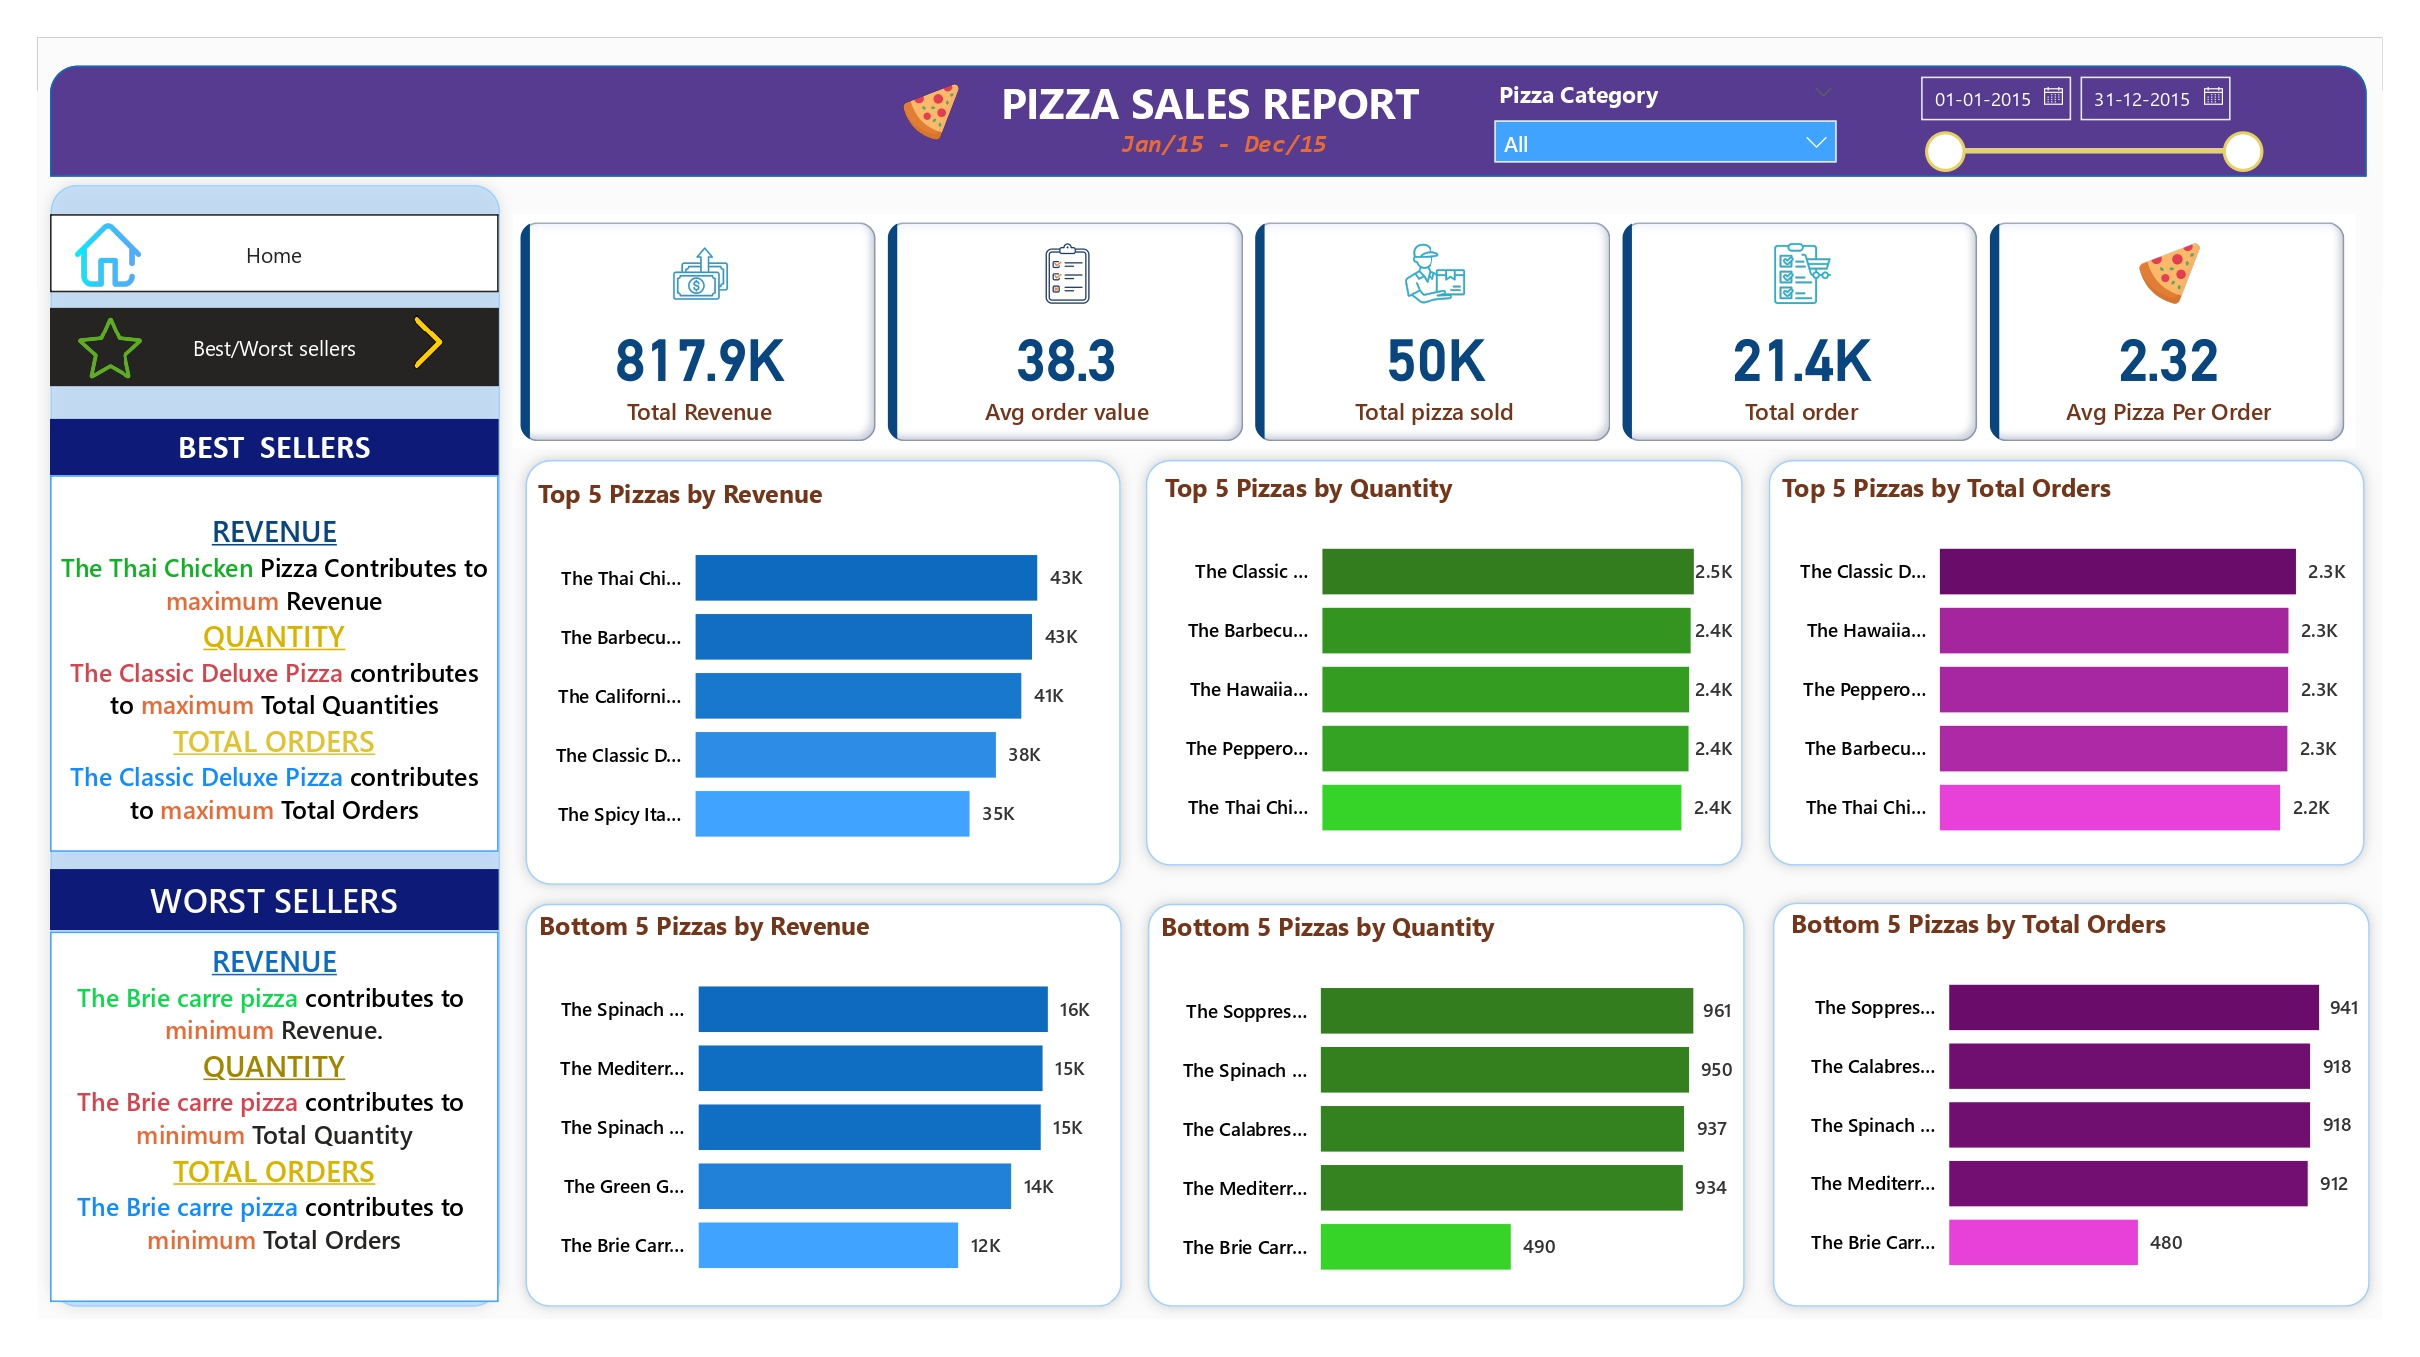

The page's visual inventory and layout, read from the dashboard file:
{"tool":"powerbi","page":{"name":"Best/Worst sellers","canvas":[1500,820],"ordinal":1},"visuals":[{"type":"cardVisual","fields":{"Data":["pizza_sales pizza_sale.Total Revenue","pizza_sales pizza_sale.Avg order value","pizza_sales pizza_sale.Total pizza sold","pizza_sales pizza_sale.Total order","pizza_sales pizza_sale.Avg Pizza Per Order"]},"box":[304.3,112.9,1178.6,150],"z":0},{"type":"shape","box":[8.4,18.1,1481.8,71],"z":1000},{"type":"textbox","box":[605.8,18.1,288.3,52.9],"z":2000},{"type":"textbox","box":[661.5,52.9,195,34.8],"z":3000},{"type":"image","box":[536.2,23.7,69.6,47.4],"z":4000},{"type":"shape","box":[303.9,262.1,397.2,287.8],"z":5000},{"type":"shape","box":[0,86.3,303.6,733.9],"z":6000},{"type":"textbox","box":[8.4,243.7,286.9,37.6],"z":7000},{"type":"textbox","box":[8.4,279.9,286.9,240.9],"z":8000},{"type":"textbox","box":[8.4,532,286.9,39],"z":9000},{"type":"textbox","box":[8.4,572.4,286.9,236.8],"z":10000},{"type":"slicer","fields":{"Values":["pizza_sales pizza_sale.pizza_category"]},"box":[921.9,20.9,239.5,65.5],"z":11000},{"type":"slicer","fields":{"Values":["pizza_sales pizza_sale.order_date"]},"box":[1192.1,15.3,239.5,73.8],"z":12000},{"type":"shape","box":[701.1,261.8,398.3,275.7],"z":13000},{"type":"shape","box":[1098.8,261.8,398.3,275.7],"z":14000},{"type":"shape","box":[303.6,545.9,398.3,274.4],"z":15000},{"type":"shape","box":[701.9,545.9,398.3,274.4],"z":16000},{"type":"shape","box":[1101.6,544.5,398.3,275.7],"z":17000},{"type":"barChart","title":"Top 5 Pizzas by Revenue","fields":{"Category":["pizza_sales pizza_sale.pizza_name"],"Y":["pizza_sales pizza_sale.Total Revenue"]},"box":[314.7,281.3,374.6,250.7],"z":18000},{"type":"barChart","title":"Bottom 5 Pizzas by Revenue","fields":{"Category":["pizza_sales pizza_sale.pizza_name"],"Y":["pizza_sales pizza_sale.Total Revenue"]},"box":[316.1,557.1,374.6,250.7],"z":19000},{"type":"barChart","title":"Top 5 Pizzas by Quantity","fields":{"Category":["pizza_sales pizza_sale.pizza_name"],"Y":["pizza_sales pizza_sale.Total pizza sold"]},"box":[715.8,277.1,373.2,250.7],"z":20000},{"type":"barChart","title":"Bottom 5 Pizzas by Quantity","fields":{"Category":["pizza_sales pizza_sale.pizza_name"],"Y":["pizza_sales pizza_sale.Total pizza sold"]},"box":[714.4,558.5,374.6,250.7],"z":21000},{"type":"barChart","title":"Top 5 Pizzas by Total Orders","fields":{"Category":["pizza_sales pizza_sale.pizza_name"],"Y":["pizza_sales pizza_sale.Total order"]},"box":[1111.4,277.1,373.2,250.7],"z":22000},{"type":"barChart","title":"Bottom 5 Pizzas by Total Orders","fields":{"Category":["pizza_sales pizza_sale.pizza_name"],"Y":["pizza_sales pizza_sale.Total order"]},"box":[1116.9,555.7,373.2,250.7],"z":23000},{"type":"pageNavigator","box":[8.4,172.7,286.9,50.1],"z":24000},{"type":"pageNavigator","box":[8.4,112.8,286.9,50.1],"z":25000},{"type":"image","box":[228.4,167.1,43.2,55.7],"z":26000},{"type":"image","box":[19.5,107.2,51.5,62.7],"z":27000},{"type":"image","box":[20.9,172.7,51.5,51.5],"z":28000}]}

Visuals, with their boxes on the page's 1500x820 design canvas (x1, y1, x2, y2). These are canvas units, not pixel positions in the 2420x1357 screenshot, which may show the page scaled, cropped or inside an application window:
cardVisual - pizza_sales pizza_sale.Total Revenue x pizza_sales pizza_sale.Avg order value: bbox(304, 113, 1483, 263)
shape: bbox(8, 18, 1490, 89)
textbox: bbox(606, 18, 894, 71)
textbox: bbox(662, 53, 856, 88)
image: bbox(536, 24, 606, 71)
shape: bbox(304, 262, 701, 550)
shape: bbox(0, 86, 304, 820)
textbox: bbox(8, 244, 295, 281)
textbox: bbox(8, 280, 295, 521)
textbox: bbox(8, 532, 295, 571)
textbox: bbox(8, 572, 295, 809)
slicer - pizza_sales pizza_sale.pizza_category: bbox(922, 21, 1161, 86)
slicer - pizza_sales pizza_sale.order_date: bbox(1192, 15, 1432, 89)
shape: bbox(701, 262, 1099, 538)
shape: bbox(1099, 262, 1497, 538)
shape: bbox(304, 546, 702, 820)
shape: bbox(702, 546, 1100, 820)
shape: bbox(1102, 544, 1500, 820)
"Top 5 Pizzas by Revenue" barChart: bbox(315, 281, 689, 532)
"Bottom 5 Pizzas by Revenue" barChart: bbox(316, 557, 691, 808)
"Top 5 Pizzas by Quantity" barChart: bbox(716, 277, 1089, 528)
"Bottom 5 Pizzas by Quantity" barChart: bbox(714, 558, 1089, 809)
"Top 5 Pizzas by Total Orders" barChart: bbox(1111, 277, 1485, 528)
"Bottom 5 Pizzas by Total Orders" barChart: bbox(1117, 556, 1490, 806)
pageNavigator: bbox(8, 173, 295, 223)
pageNavigator: bbox(8, 113, 295, 163)
image: bbox(228, 167, 272, 223)
image: bbox(20, 107, 71, 170)
image: bbox(21, 173, 72, 224)
